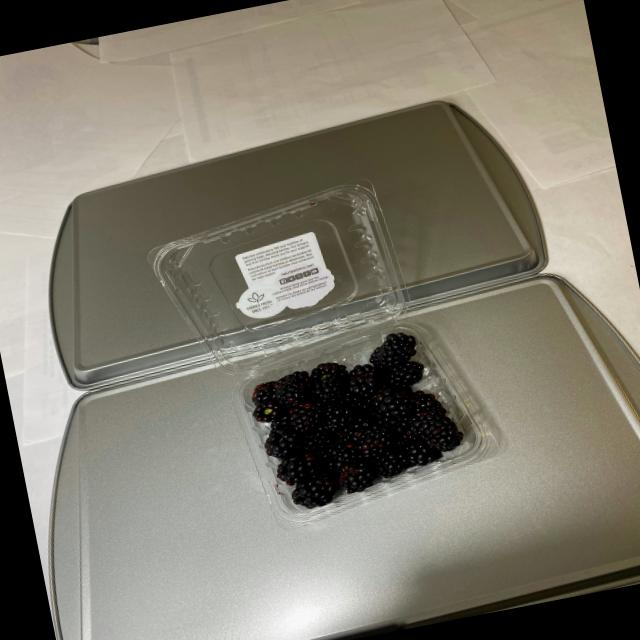blackberries: (246, 326, 446, 518)
